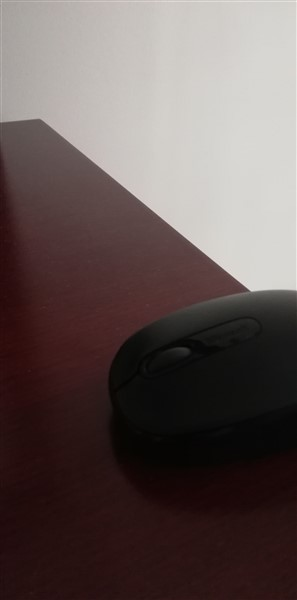mouse: (106, 277, 297, 467)
